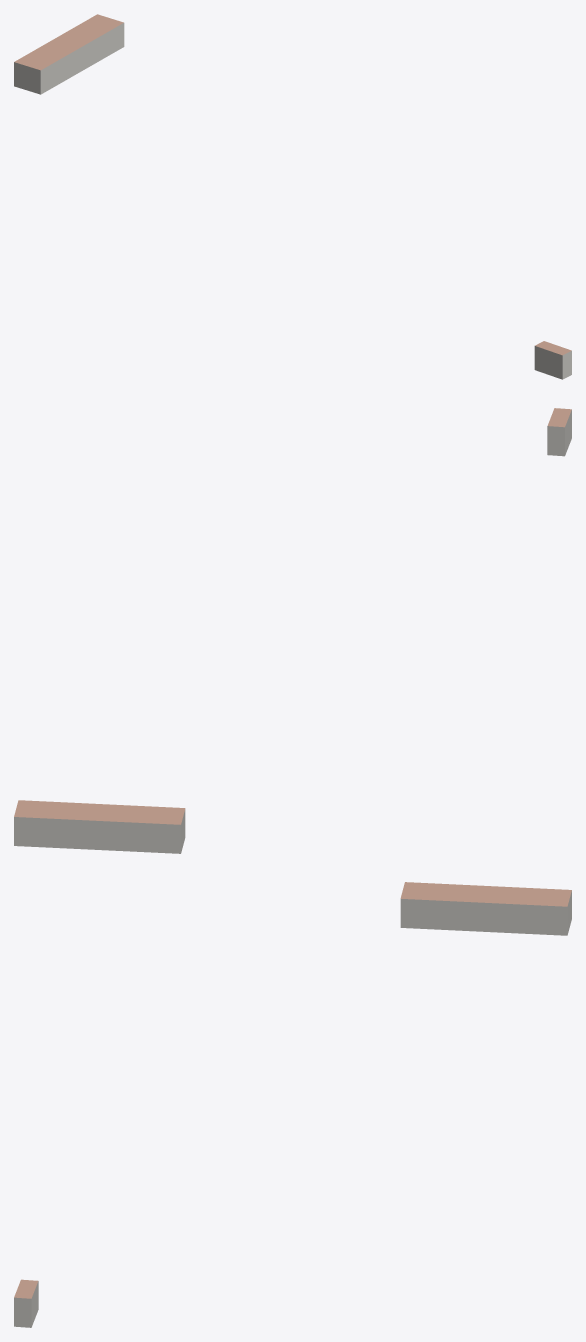
Rendered from gridID_19_high.dae.
The picture shows the model from 3 angles, top to bottom: view 1: azimuth 30°, elevation 25°; view 2: azimuth 150°, elevation 25°; view 3: azimuth 330°, elevation 25°; orthographic projection. The views are drawn at different scales.
Visible parts, largest first — view 1: model_gridID_19_w400178620, model_gridID_19_w400178620_001; view 2: model_gridID_19_w400178620, model_gridID_19_w400178620_001; view 3: model_gridID_19_w400178620, model_gridID_19_w400178620_001.
Boxes of the visible parts, x1,y1,x2,y2 form: model_gridID_19_w400178620: (14,14,124,94); model_gridID_19_w400178620_001: (534,341,571,379); model_gridID_19_w400178620: (14,800,185,853); model_gridID_19_w400178620_001: (547,408,571,456); model_gridID_19_w400178620: (400,882,571,935); model_gridID_19_w400178620_001: (14,1279,38,1327).
Size of the model in its own units: 39.74 by 260 by 7.5.
